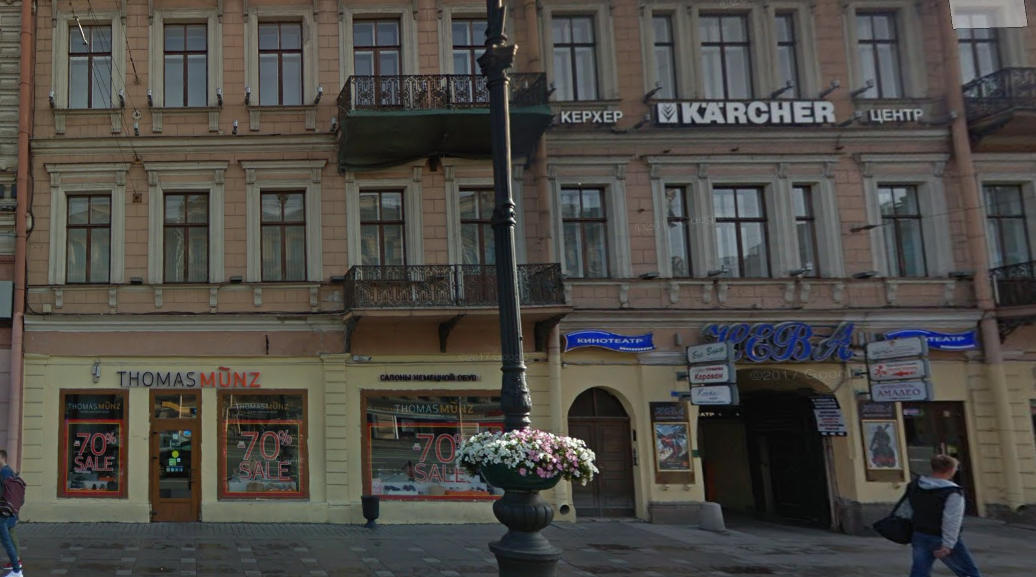arch: (696, 369, 855, 541)
cantilever: (857, 333, 932, 401), (676, 341, 734, 404)
door: (571, 420, 639, 522), (148, 420, 202, 519)
signboard: (556, 100, 926, 125), (707, 321, 864, 370), (118, 366, 259, 387), (882, 325, 970, 354), (563, 331, 657, 354), (378, 371, 479, 383)
window: (215, 391, 307, 497), (58, 391, 124, 493), (556, 181, 619, 280), (877, 183, 935, 278), (357, 189, 413, 280), (697, 16, 753, 99), (552, 13, 606, 99), (721, 187, 772, 276), (161, 25, 215, 109), (68, 21, 117, 113), (62, 191, 109, 280), (263, 189, 308, 281), (860, 16, 909, 99), (162, 194, 206, 283), (264, 23, 303, 106), (793, 182, 826, 273), (668, 187, 701, 277), (459, 190, 494, 274), (656, 18, 682, 101), (151, 393, 199, 421)
